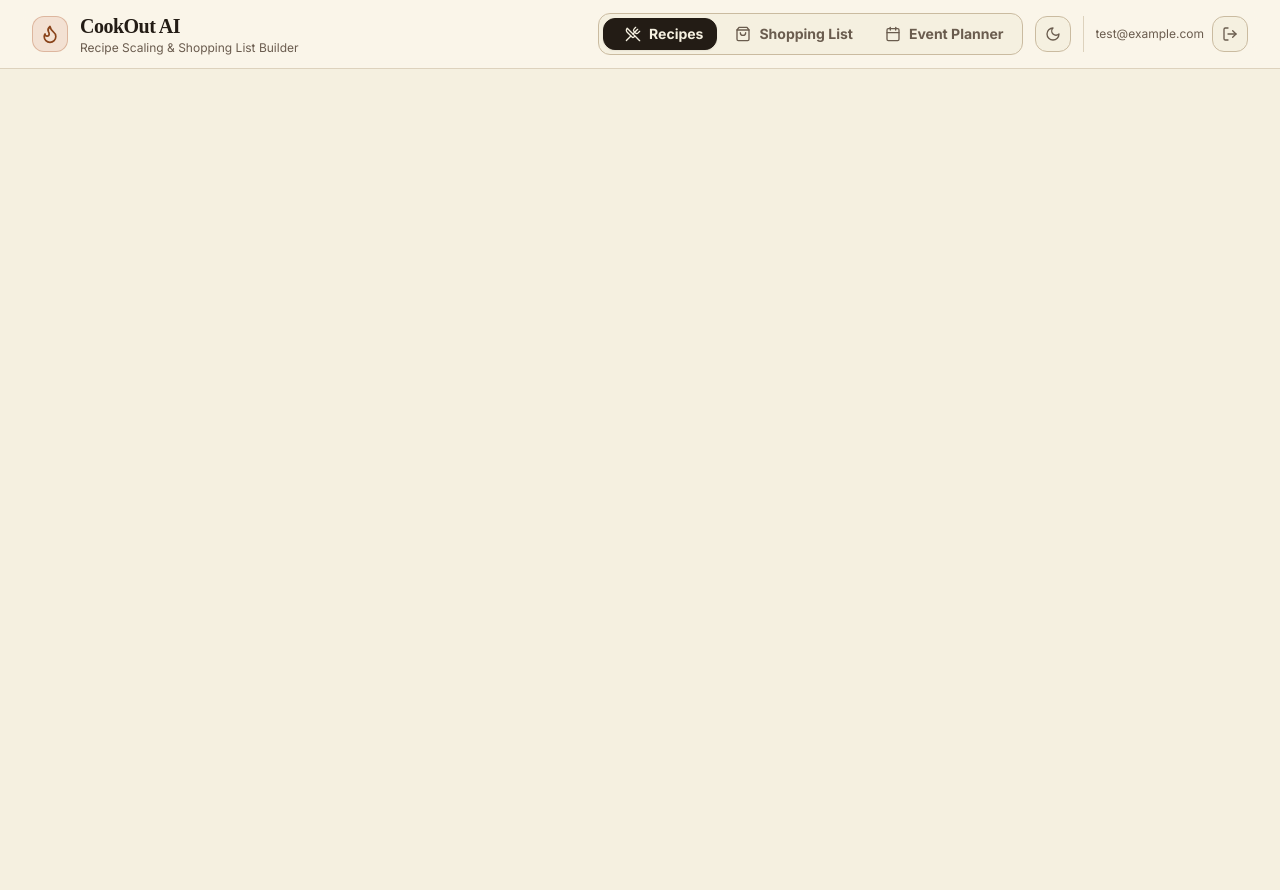
Test: Web UI (TanStack Query & App Integration Tests) › Event Planner UI Tests › displays 404 error message (missing recipe) from POST /api/events/plan
The image size is (1280, 890).
Click the button "Event Planner" at (944, 34), box top-left (871, 18), bottom-right (1018, 50)
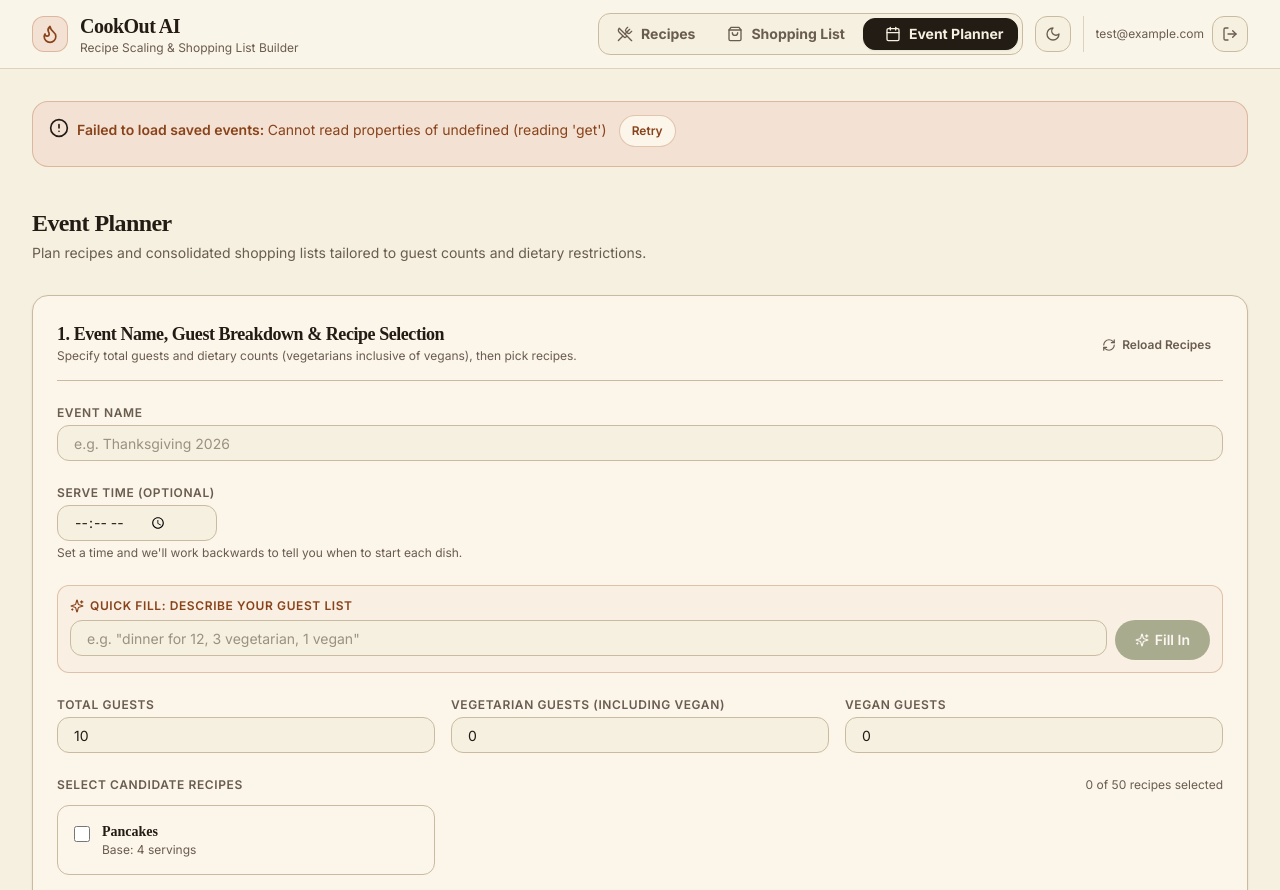
Expected: the text "Pancakes" is shown, top-left (102, 824), bottom-right (158, 839)
Click the checkbox named "select recipe pancakes" at (82, 834), box top-left (74, 826), bottom-right (90, 842)
(page scrolled)
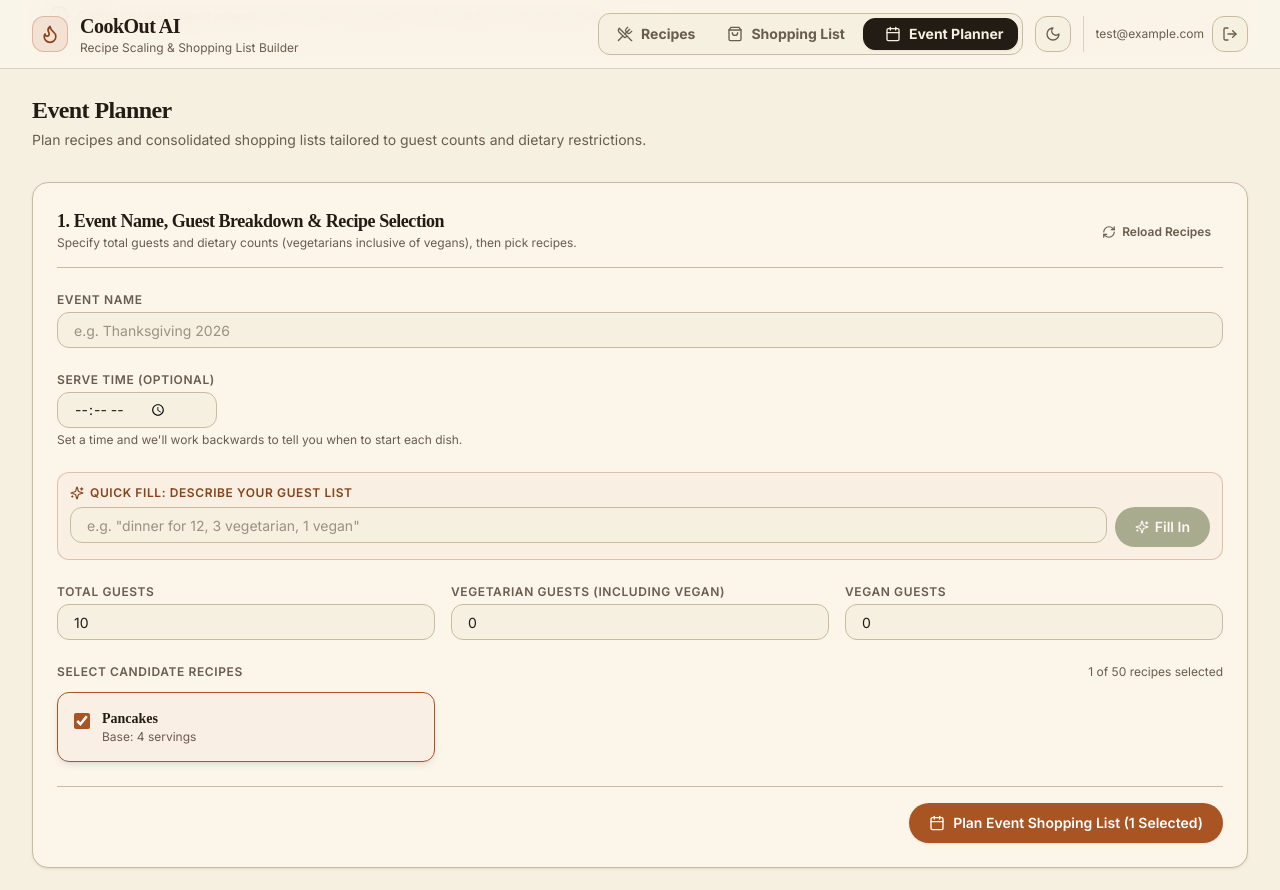
Click the button "Plan Event Shopping List (1 Selected)" at (1066, 823), box top-left (909, 803), bottom-right (1223, 843)
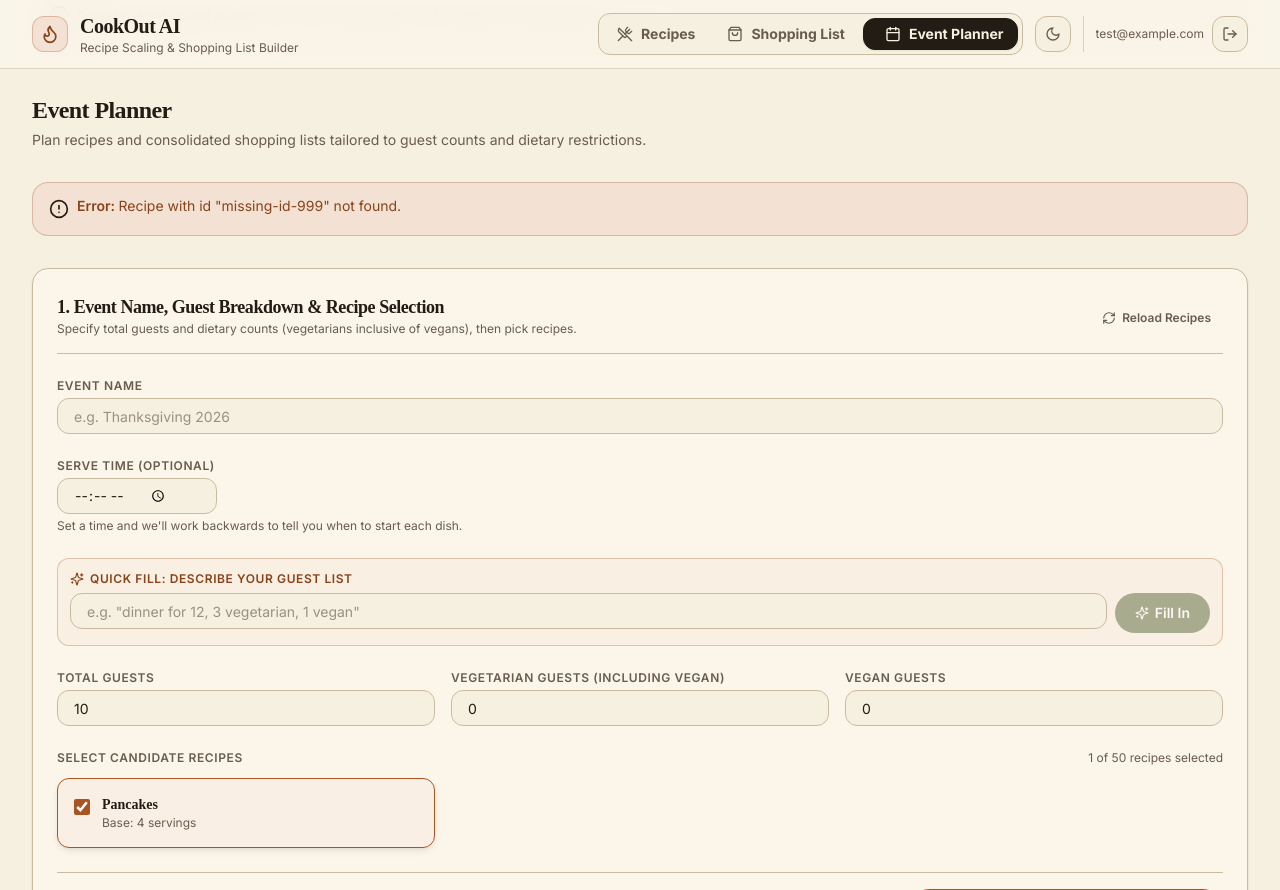
Expected: the text "Recipe with id \"missing-id-999\" not found." is shown, top-left (118, 197), bottom-right (401, 214)
